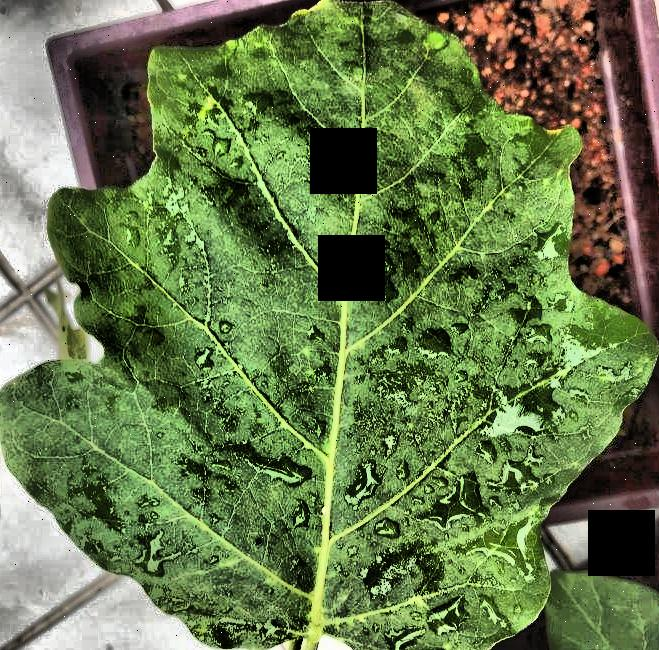HEALTHY: (0, 1, 659, 650)
